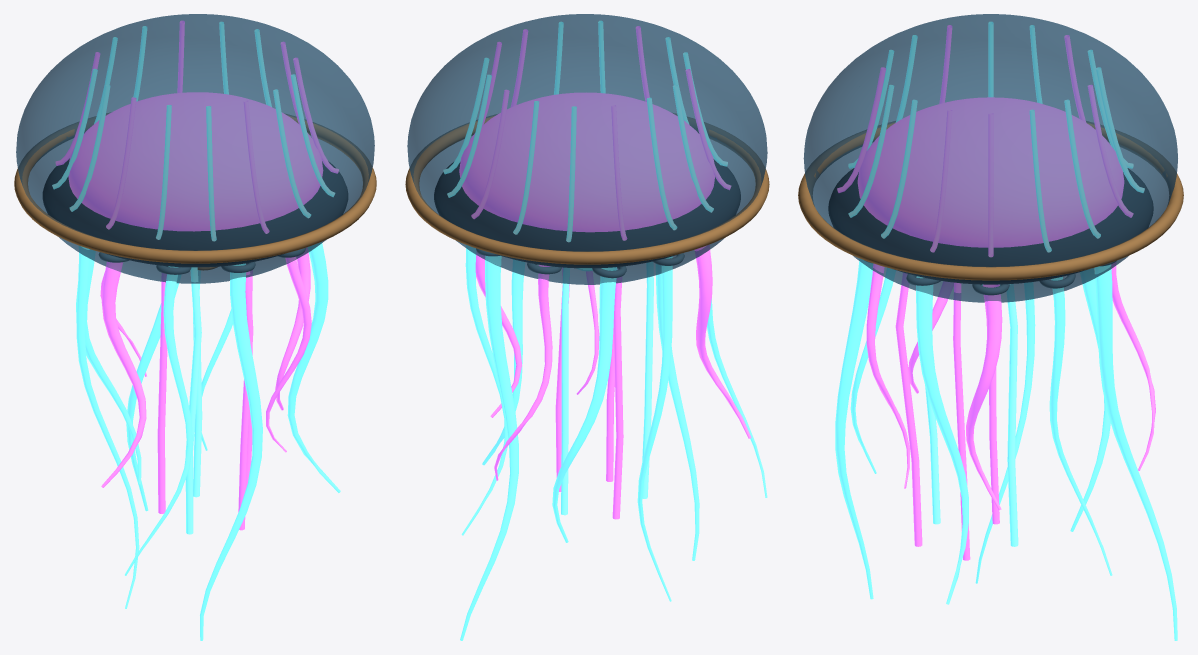
Rendered from medusa.glb.
3 views of the same model, side by side, from view 1: azimuth 30°, elevation 25°; view 2: azimuth 150°, elevation 25°; view 3: azimuth 270°, elevation 25° (orthographic). The views are drawn at different scales.
Visible parts, largest first — view 1: MEDUSA | Obsidian bell crystal, MEDUSA | Inner luminous diaphragm, MEDUSA | Black mechanical ring, MEDUSA | Amber cap rim, MEDUSA | Articulated filament 08, MEDUSA | Articulated filament 05, MEDUSA | Articulated filament 10, MEDUSA | Articulated filament 06, MEDUSA | Articulated filament 07, MEDUSA | Long conductivity filament3, MEDUSA | Long conductivity filament2, MEDUSA | Articulated filament 09 (+15 smaller); view 2: MEDUSA | Obsidian bell crystal, MEDUSA | Inner luminous diaphragm, MEDUSA | Black mechanical ring, MEDUSA | Amber cap rim, MEDUSA | Articulated filament 02, MEDUSA | Articulated filament 04, MEDUSA | Articulated filament 05, MEDUSA | Articulated filament 06, MEDUSA | Long conductivity filament2, MEDUSA | Articulated filament 08, MEDUSA | Long conductivity filament1, MEDUSA | Articulated filament 01 (+17 smaller); view 3: MEDUSA | Obsidian bell crystal, MEDUSA | Inner luminous diaphragm, MEDUSA | Black mechanical ring, MEDUSA | Amber cap rim, MEDUSA | Articulated filament 02, MEDUSA | Articulated filament 08, MEDUSA | Articulated filament 10, MEDUSA | Articulated filament 00, MEDUSA | Long conductivity filament4, MEDUSA | Long conductivity filament1, MEDUSA | Articulated filament 01, MEDUSA | Articulated filament 05 (+17 smaller).
Part boxes in pixels (x1,y1,x2,y2): MEDUSA | Obsidian bell crystal: (16,14,374,283); MEDUSA | Inner luminous diaphragm: (68,92,323,231); MEDUSA | Black mechanical ring: (42,158,348,267); MEDUSA | Amber cap rim: (14,113,376,263); MEDUSA | Articulated filament 08: (200,263,262,640); MEDUSA | Articulated filament 05: (76,246,139,608); MEDUSA | Articulated filament 10: (287,242,340,492); MEDUSA | Articulated filament 06: (101,261,146,487); MEDUSA | Articulated filament 07: (125,266,192,575); MEDUSA | Long conductivity filament3: (185,267,201,534); MEDUSA | Long conductivity filament2: (157,273,167,513); MEDUSA | Articulated filament 09: (266,257,311,452); MEDUSA | Obsidian bell crystal: (407,14,767,284); MEDUSA | Inner luminous diaphragm: (459,92,714,232); MEDUSA | Black mechanical ring: (434,159,740,268); MEDUSA | Amber cap rim: (405,113,769,264); MEDUSA | Articulated filament 02: (460,256,518,640); MEDUSA | Articulated filament 04: (552,267,617,542); MEDUSA | Articulated filament 05: (637,256,672,601); MEDUSA | Articulated filament 06: (694,245,751,438); MEDUSA | Long conductivity filament2: (612,277,623,519); MEDUSA | Articulated filament 08: (656,264,699,560); MEDUSA | Long conductivity filament1: (561,268,569,515); MEDUSA | Articulated filament 01: (461,245,508,535); MEDUSA | Obsidian bell crystal: (803,14,1177,302); MEDUSA | Inner luminous diaphragm: (857,97,1124,247); MEDUSA | Black mechanical ring: (828,168,1153,284); MEDUSA | Amber cap rim: (798,121,1183,280); MEDUSA | Articulated filament 02: (1094,264,1177,640); MEDUSA | Articulated filament 08: (835,259,873,599); MEDUSA | Articulated filament 10: (916,276,968,604); MEDUSA | Articulated filament 00: (966,284,1002,510); MEDUSA | Long conductivity filament4: (895,273,922,546); MEDUSA | Long conductivity filament1: (1007,284,1018,546); MEDUSA | Articulated filament 01: (1049,277,1112,575); MEDUSA | Articulated filament 05: (975,282,1035,583).
Size of the model in its own units: 2.37 by 3.97 by 2.37.
